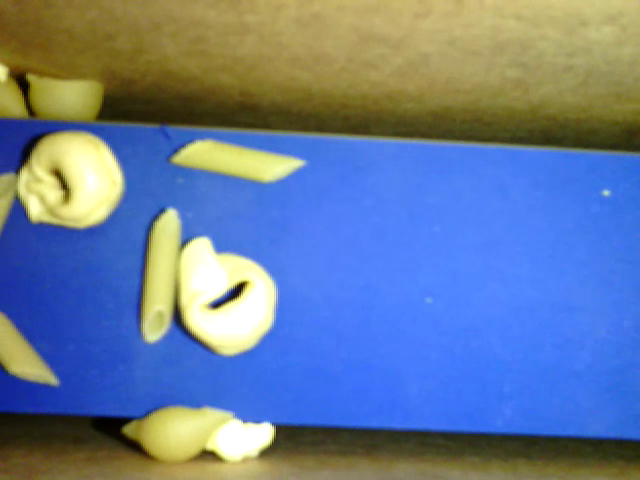penne: (169, 136, 308, 185), (140, 204, 180, 342), (1, 307, 62, 388)
shell: (122, 405, 235, 460), (26, 71, 103, 120)
tortellini: (176, 235, 276, 357), (16, 130, 123, 228)
